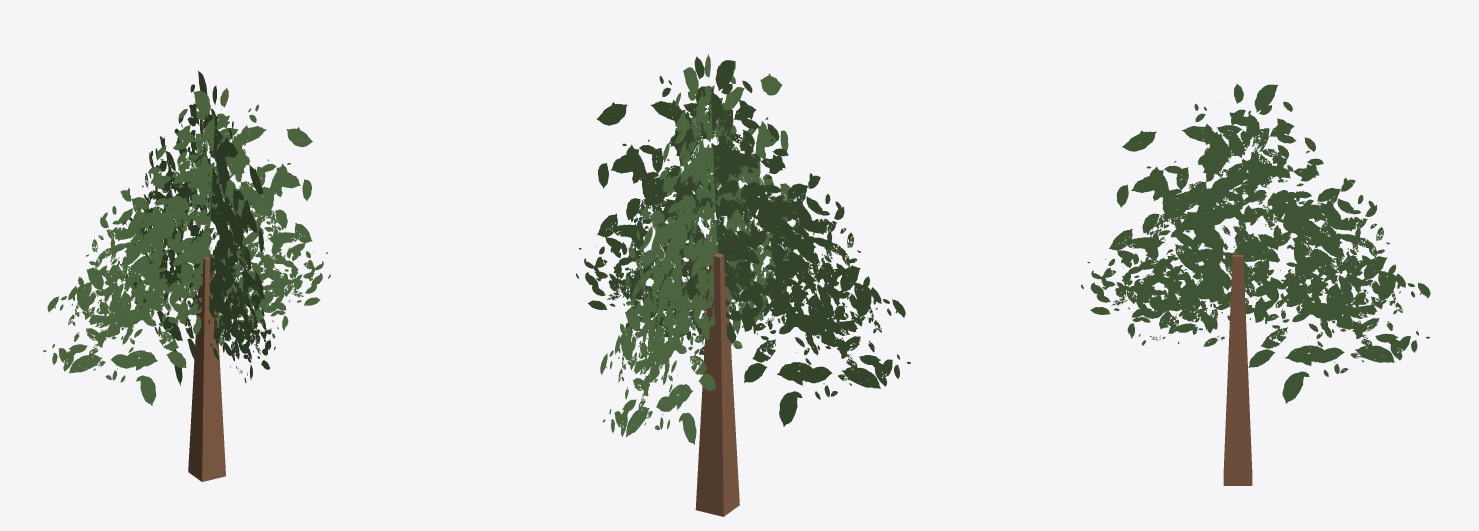
File: tree_lod.fbx
3 views of the same model, side by side, from view 1: azimuth 30°, elevation 25°; view 2: azimuth 150°, elevation 25°; view 3: azimuth 270°, elevation 25° (orthographic). The views are drawn at different scales.
Visible parts, largest first — view 1: 平面.001, Cube; view 2: 平面.001, Cube; view 3: 平面.001, Cube.
Part boxes in pixels (x1=…): 平面.001: x1=43, y1=71, x2=330, y2=405; Cube: x1=188, y1=254, x2=225, y2=481; 平面.001: x1=576, y1=54, x2=910, y2=444; Cube: x1=695, y1=253, x2=739, y2=516; 平面.001: x1=1081, y1=84, x2=1430, y2=403; Cube: x1=1223, y1=252, x2=1252, y2=485.
Size of the model in its own units: 1395 by 1395 by 1378.
2 materials, 1 textured.
